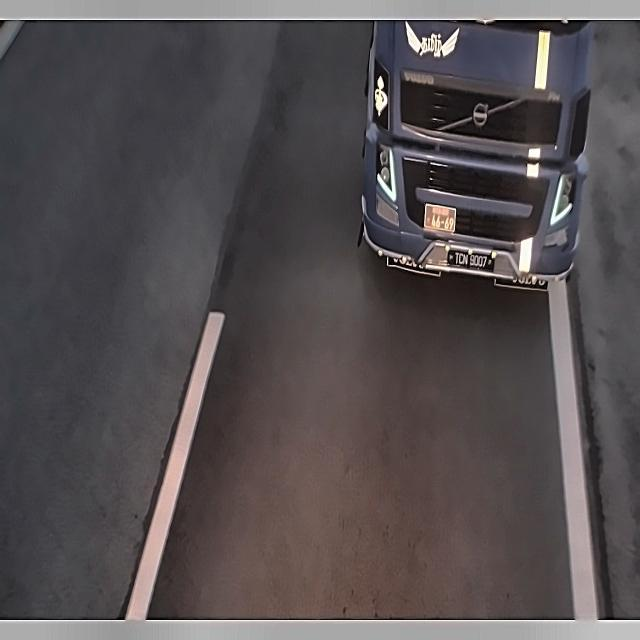car: (446, 241, 499, 278)
